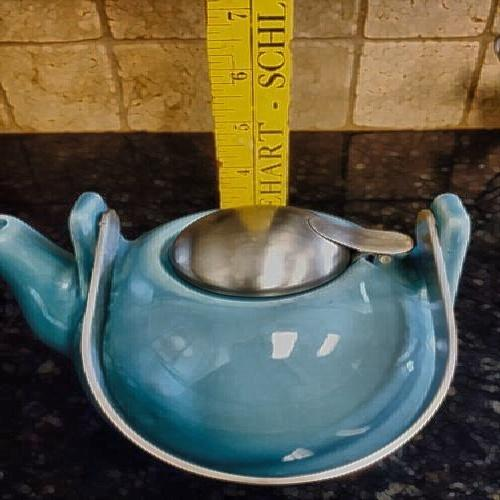kettle: (8, 179, 480, 480)
